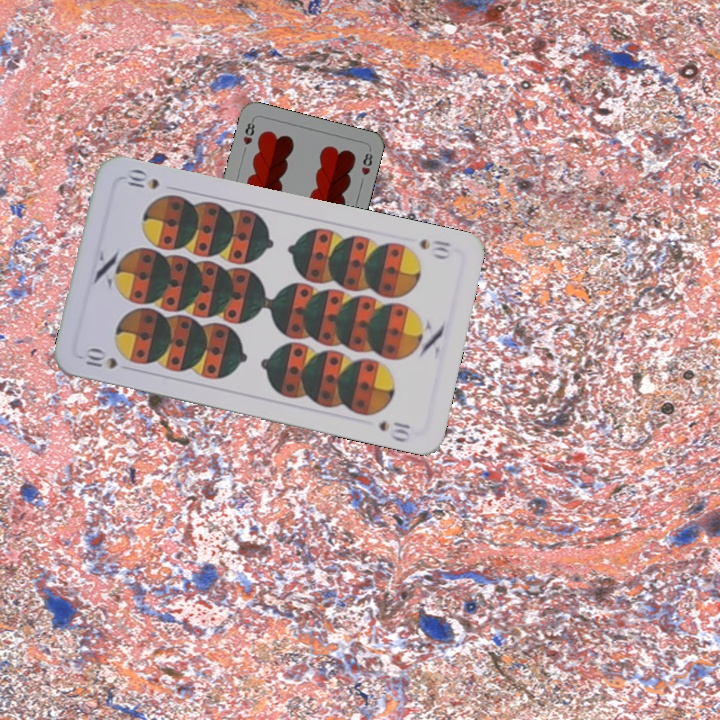H8: (239, 116, 257, 147)
S10: (416, 234, 454, 262), (81, 346, 121, 372)
